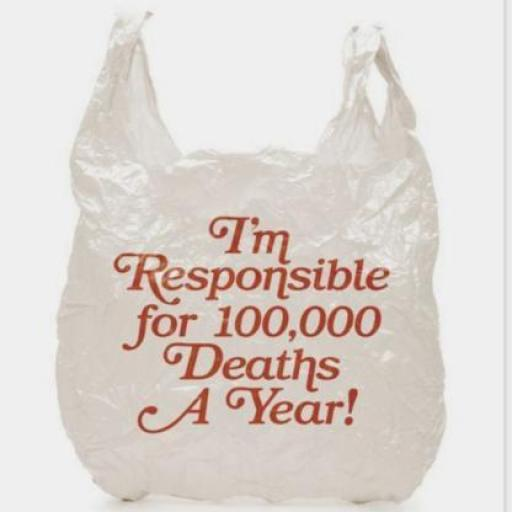plastic bag: (28, 10, 473, 506)
